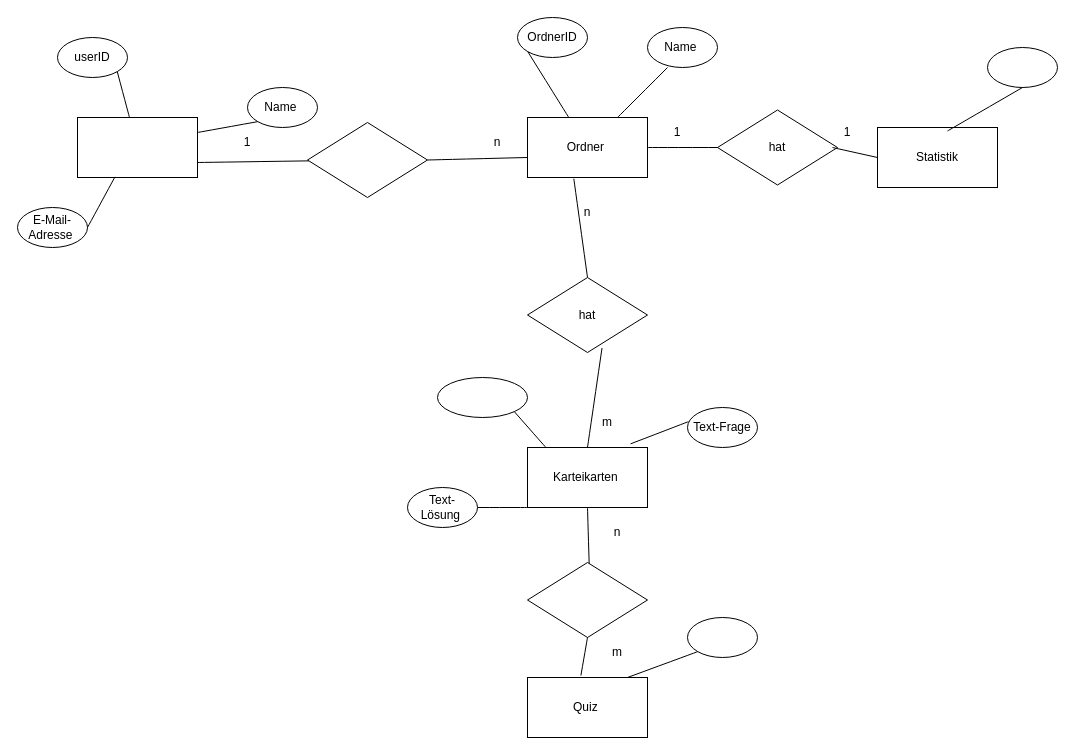
Some shapes in this 1075 by 755 pixel diagram are drawn without their labels. Here are the shapes that lost their labels. From the top down, the centre of each, then its label:
the point at 1022,67: StatistikID
the point at 137,147: User
the point at 367,160: erstellt
the point at 482,397: KarteikartenID
the point at 587,600: generieren
the point at 722,637: QuizID
